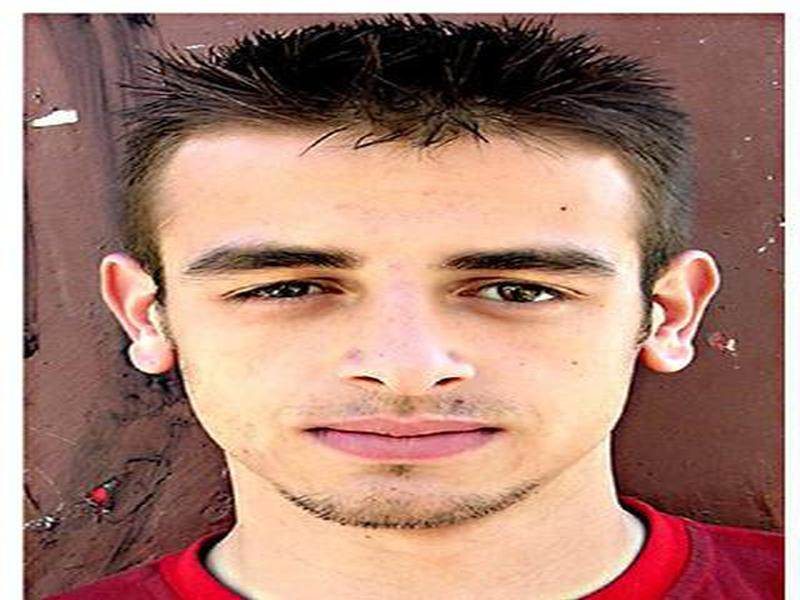without_mask: (156, 150, 641, 529)
